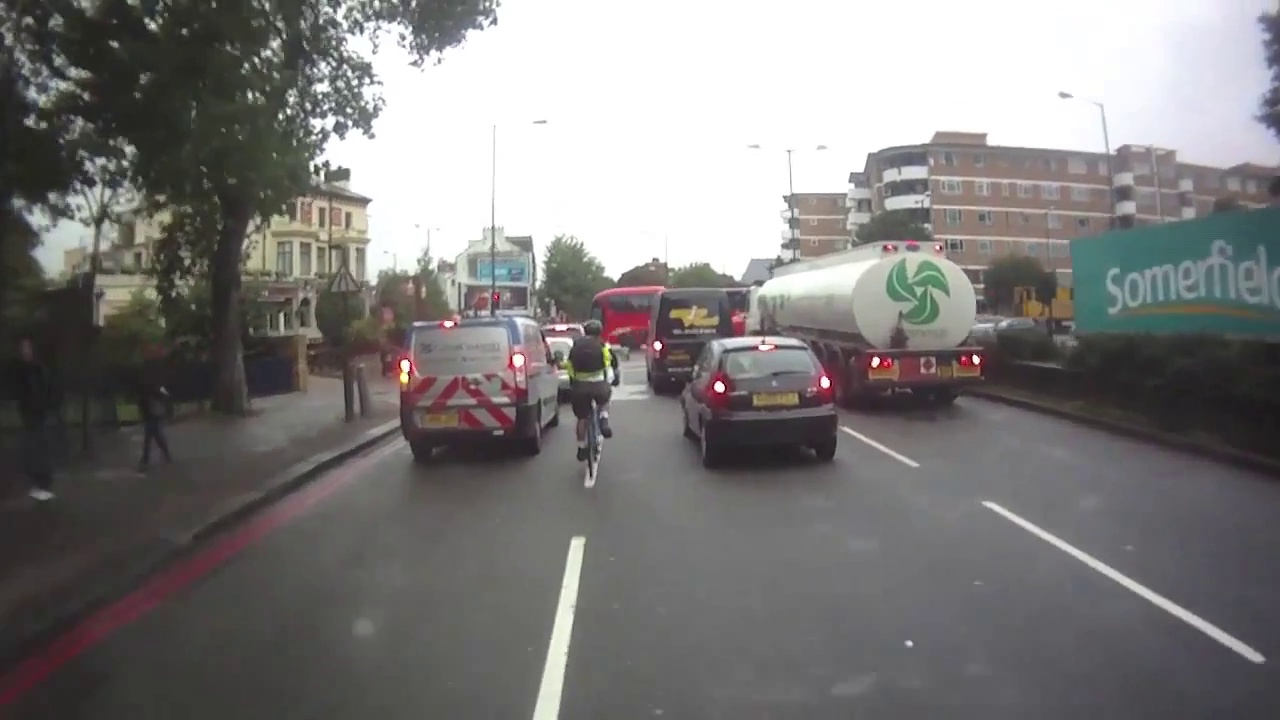cyclist_back: (567, 314, 616, 485)
